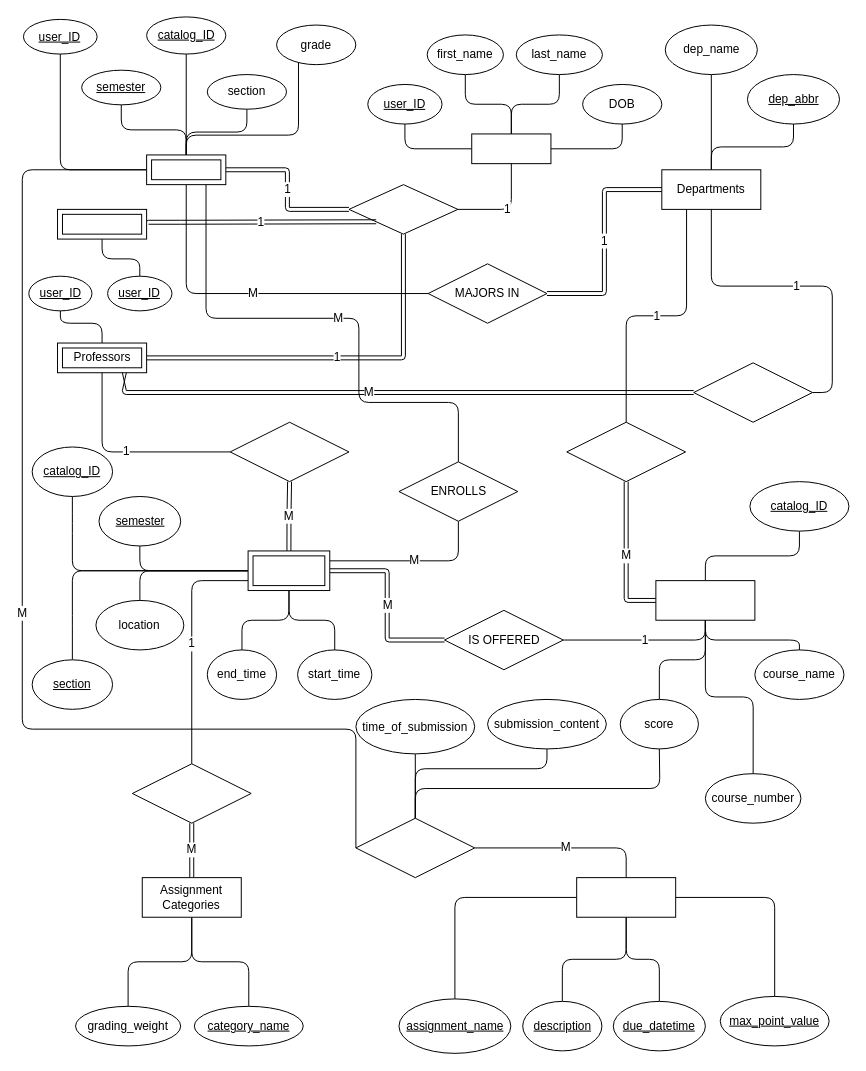
This 866x1071 diagram has some shape labels left out. Here are the shapes that lost their labels. From the top down, the centre of each, then its label:
At (511,148): "Users".
At (186,169): "Students".
At (102,223): "Administrators".
At (403,209): "IS".
At (752,392): "WORKS IN".
At (289,451): "TEACHES".
At (626,451): "LISTED".
At (288,570): "Classes".
At (705,600): "Courses".
At (191,793): "BELONGS".
At (415,847): "SUMBITS".
At (626,897): "Assignments".
